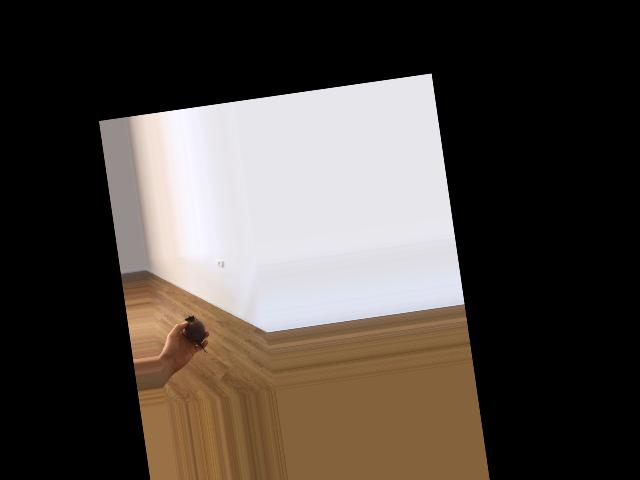beet: (181, 314, 209, 355)
